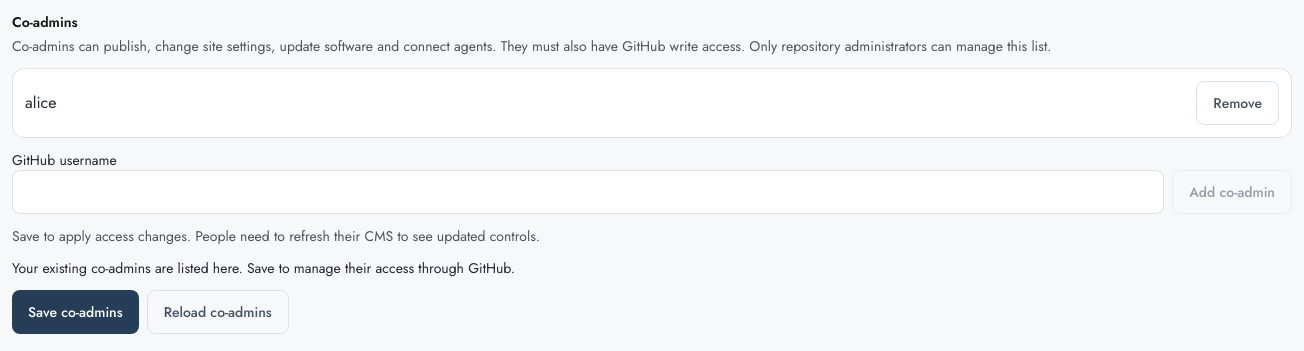
Test: legacy list is preserved and can be migrated without changing usernames
Click the button "Save co-admins" at [75, 312], box [12, 290, 139, 334]
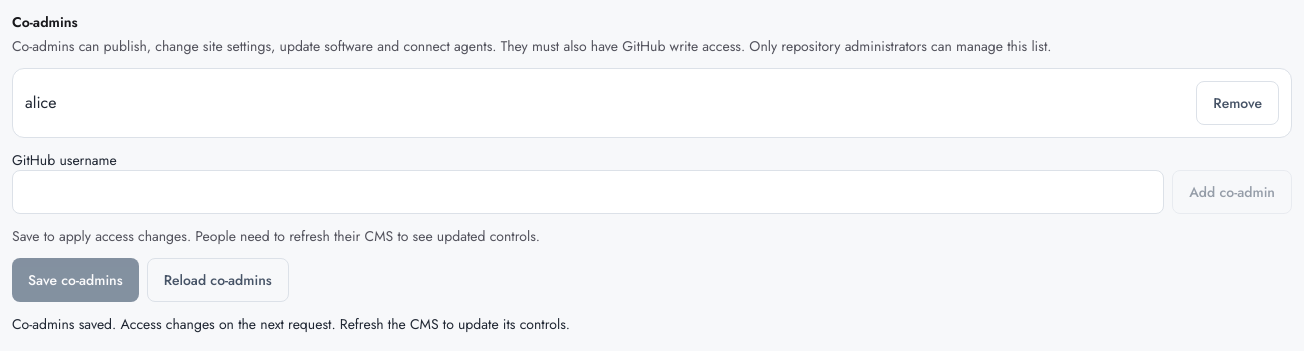
Now the text "Your existing co-admins" is gone
